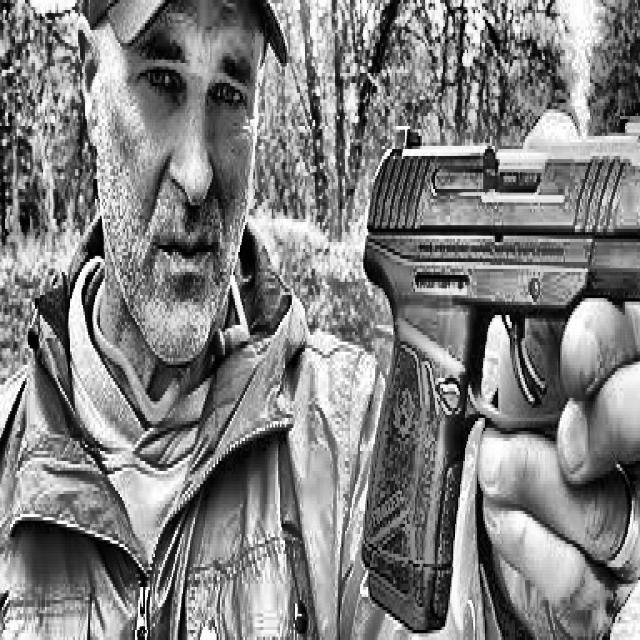Ruger: (360, 113, 640, 633)
